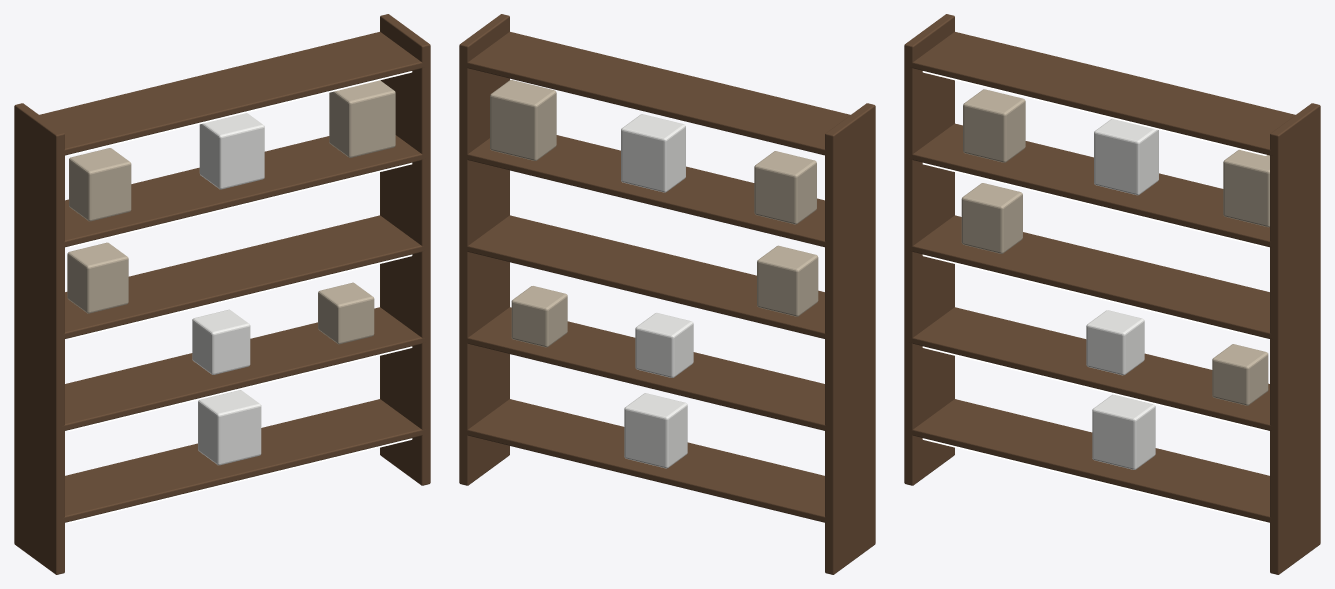
Rendered from retail-shelf.glb.
3 views of the same model, side by side, from view 1: azimuth 30°, elevation 25°; view 2: azimuth 150°, elevation 25°; view 3: azimuth 330°, elevation 25° (orthographic).
Visible parts, largest first — view 1: shelf_side_-1, shelf_4, shelf_side_1, shelf_2, shelf_0, shelf_1, shelf_3, shelf_item_3_2, shelf_item_3_1, shelf_item_0_1, shelf_item_3_0, shelf_item_2_0 (+7 smaller); view 2: shelf_side_-1, shelf_4, shelf_side_1, shelf_2, shelf_0, shelf_1, shelf_3, shelf_item_3_2, shelf_item_3_1, shelf_item_0_1, shelf_item_3_0, shelf_item_2_0 (+2 smaller); view 3: shelf_side_1, shelf_side_-1, shelf_4, shelf_2, shelf_0, shelf_1, shelf_3, shelf_item_3_1, shelf_item_0_1, shelf_item_3_0, shelf_item_2_0, shelf_item_1_1 (+7 smaller).
Part boxes in pixels (x1,y1,x2,y2): shelf_side_-1: (14,103,64,574); shelf_4: (39,32,425,155); shelf_side_1: (380,14,430,485); shelf_2: (62,215,425,339); shelf_0: (62,399,425,522); shelf_1: (62,307,425,430); shelf_3: (62,135,425,247); shelf_item_3_2: (329,80,395,157); shelf_item_3_1: (199,113,264,189); shelf_item_0_1: (198,390,261,465); shelf_item_3_0: (69,148,131,221); shelf_item_2_0: (67,242,128,313); shelf_side_-1: (825,103,875,574); shelf_4: (464,32,850,155); shelf_side_1: (459,14,509,485); shelf_2: (464,215,827,338); shelf_0: (464,399,825,522); shelf_1: (465,307,827,430); shelf_3: (465,135,827,247); shelf_item_3_2: (490,80,556,160); shelf_item_3_1: (621,114,685,192); shelf_item_0_1: (624,393,687,468); shelf_item_3_0: (754,151,816,224); shelf_item_2_0: (757,245,818,316); shelf_side_1: (1270,103,1320,574); shelf_side_-1: (904,14,954,485); shelf_4: (909,32,1295,155); shelf_2: (909,215,1272,339); shelf_0: (909,399,1272,522); shelf_1: (909,307,1272,430); shelf_3: (909,123,1272,247); shelf_item_3_1: (1094,118,1158,195); shelf_item_0_1: (1092,394,1155,469); shelf_item_3_0: (963,89,1025,162); shelf_item_2_0: (961,183,1022,253); shelf_item_1_1: (1086,310,1144,375).
Size of the model in its own units: 2.05 by 2.3 by 0.4.
